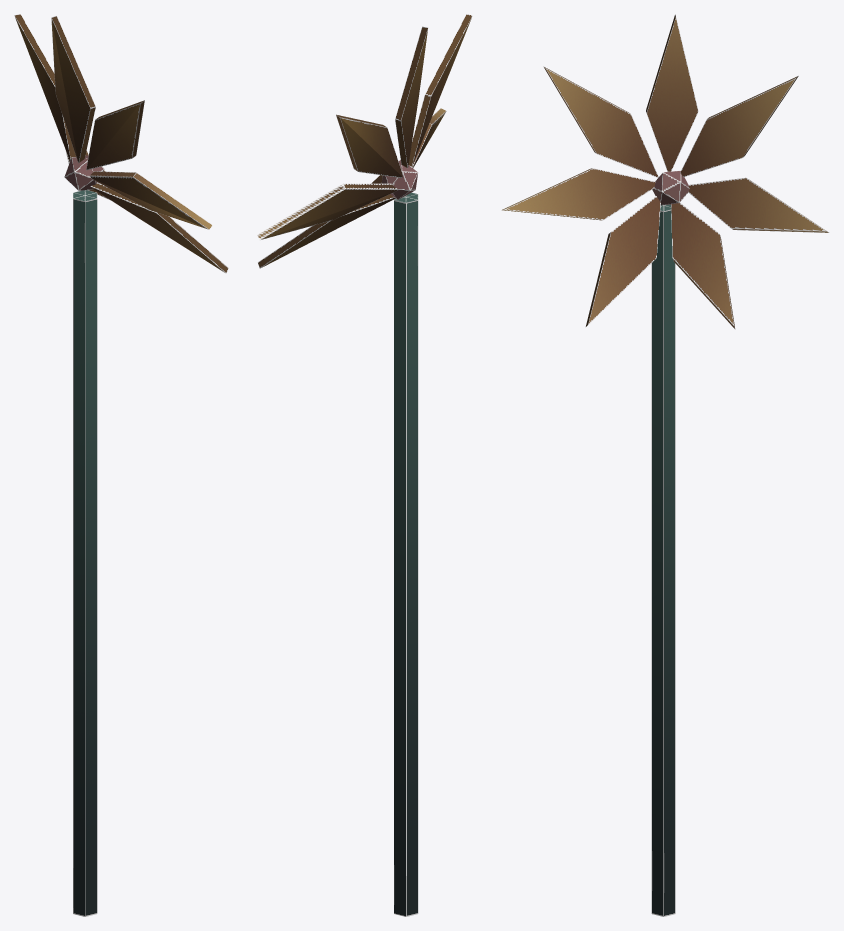
Rendered from Flor 4.obj.
3 renders of one model, left to right at view 1: azimuth 30°, elevation 25°; view 2: azimuth 150°, elevation 25°; view 3: azimuth 270°, elevation 25°, orthographic.
Parts seen in each view (by area): view 1: Flor 4; view 2: Flor 4; view 3: Flor 4.
Boxes of the visible parts, x1,y1,x2,y2 form: Flor 4: (14, 14, 228, 916); Flor 4: (257, 14, 472, 916); Flor 4: (501, 14, 829, 916).
Bounding box in the file's own units: 0.1265 × 0.7682 × 0.2587.
Materials: 1 (1 with a texture image).
